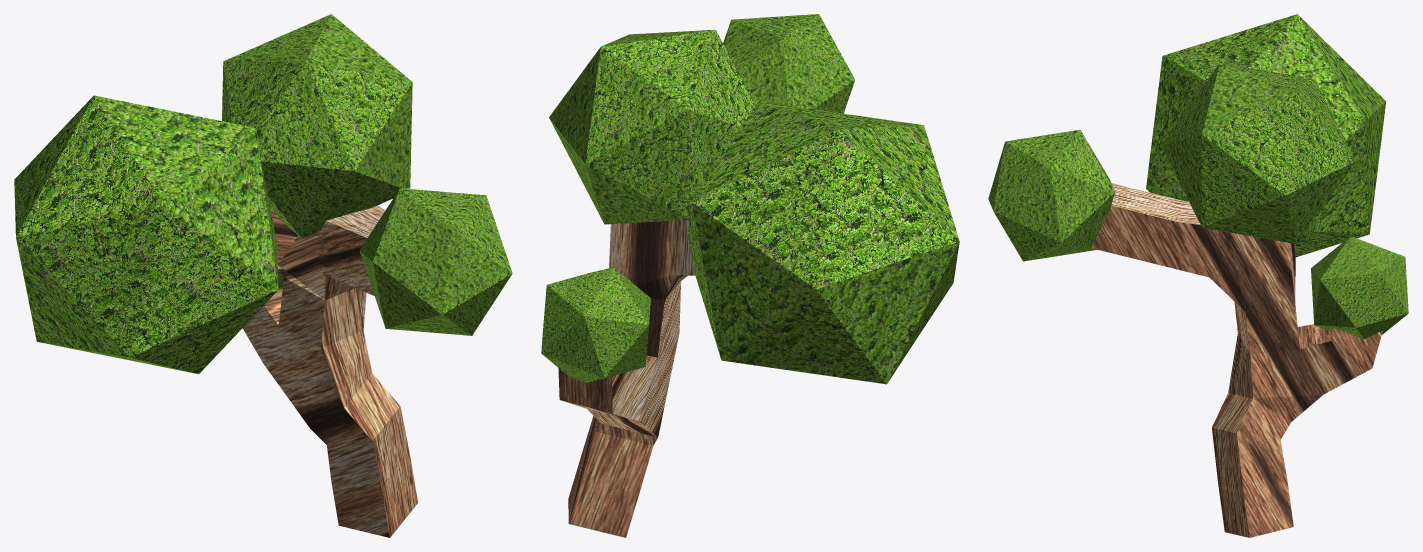
The model's file is tree1.glb.
3 views of the same model, side by side, from view 1: azimuth 30°, elevation 25°; view 2: azimuth 150°, elevation 25°; view 3: azimuth 270°, elevation 25° (orthographic). The views are drawn at different scales.
Visible parts, largest first — view 1: Icosphere.003, Tree, Icosphere.001, Icosphere.002; view 2: Icosphere.003, Icosphere.001, Tree, Icosphere, Icosphere.002; view 3: Tree, Icosphere.001, Icosphere.003, Icosphere.002, Icosphere.
Boxes of the visible parts, x1=… form: Icosphere.003: x1=14, y1=95, x2=278, y2=374; Tree: x1=242, y1=205, x2=417, y2=537; Icosphere.001: x1=222, y1=14, x2=412, y2=238; Icosphere.002: x1=359, y1=188, x2=512, y2=335; Icosphere.003: x1=687, y1=101, x2=959, y2=384; Icosphere.001: x1=549, y1=29, x2=755, y2=224; Tree: x1=558, y1=220, x2=695, y2=537; Icosphere: x1=541, y1=267, x2=650, y2=382; Icosphere.002: x1=723, y1=14, x2=854, y2=113; Tree: x1=1091, y1=183, x2=1382, y2=537; Icosphere.001: x1=1161, y1=63, x2=1355, y2=244; Icosphere.003: x1=1146, y1=14, x2=1386, y2=257; Icosphere.002: x1=988, y1=129, x2=1114, y2=261; Icosphere: x1=1311, y1=236, x2=1408, y2=339.
Bounding box in the file's own units: 3.87 × 4.67 × 4.11.
Materials: 2 (2 with a texture image).
